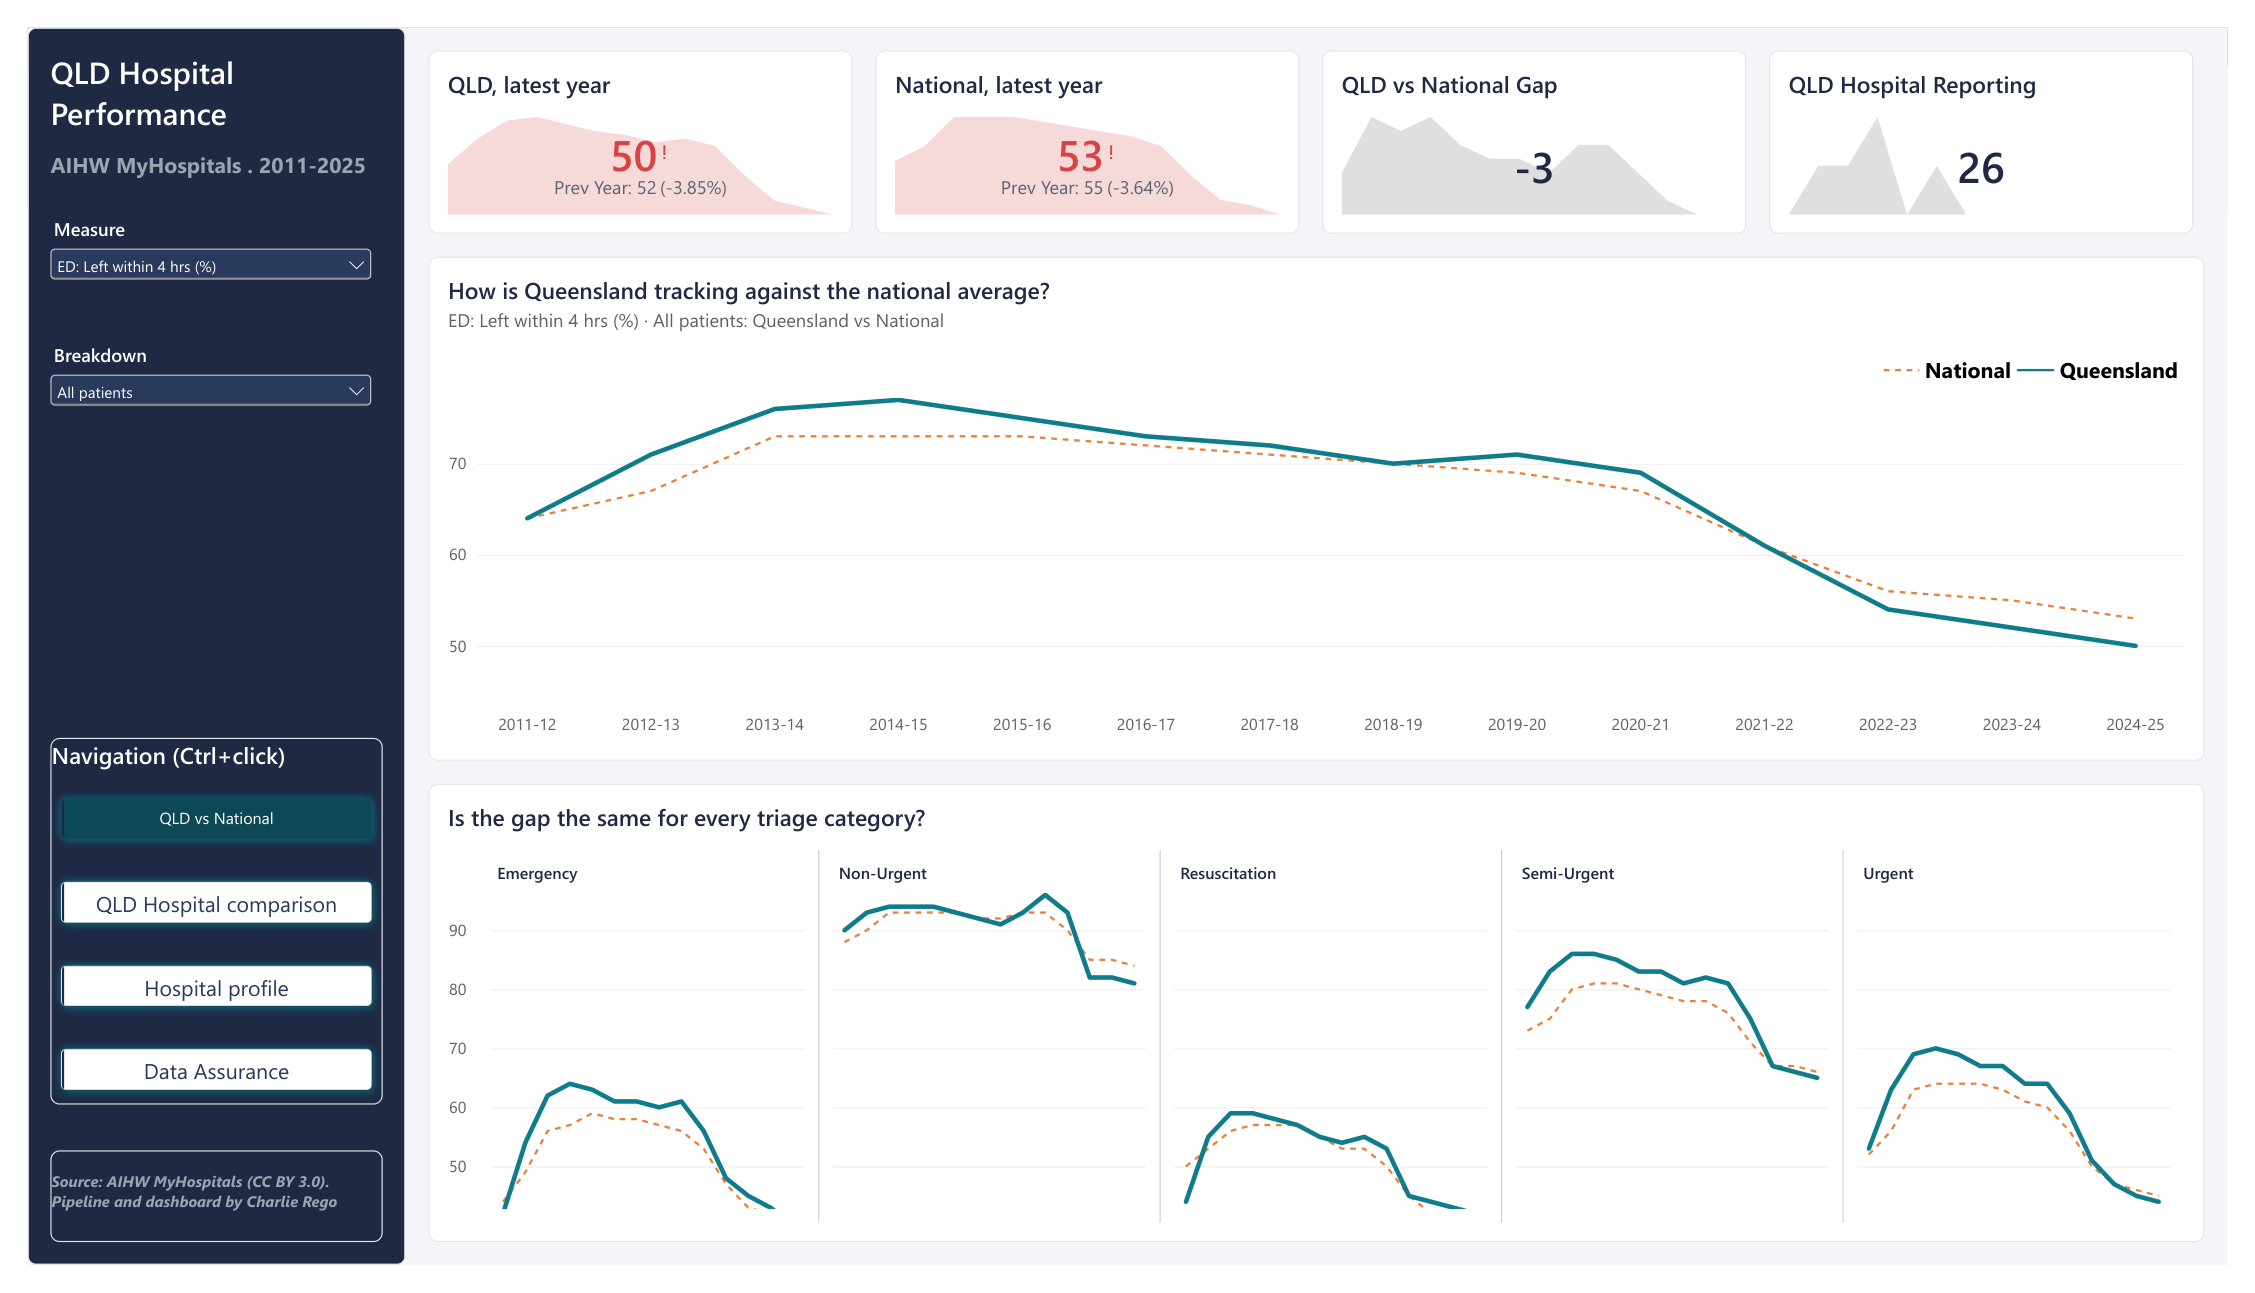

What the dashboard file says about the page in this screenshot:
{"tool":"powerbi","page":{"name":"QLD vs National","canvas":[1920,1080],"ordinal":0},"visuals":[{"type":"shape","box":[0,0,330,1080],"z":0},{"type":"slicer","fields":{"Values":["dim_measure.Measure Short Name"]},"box":[15,165,290,90],"z":1000},{"type":"slicer","fields":{"Values":["dim_measure.reported_measure_name"]},"box":[15,275,290,90],"z":2000},{"type":"textbox","title":"QLD Hospital Performance","box":[20,20,290,120],"z":3000},{"type":"lineChart","title":"How is Queensland tracking against the national average?","fields":{"Category":["fct_hospital_measure.period_label"],"Series":["dim_reporting_unit.reporting_unit_name"],"Y":["dim_measure.Reporting Unit Value"]},"box":[350,200,1550,440],"z":4000},{"type":"kpi","title":"QLD, latest year","fields":{"Goal":["dim_measure.Previous Period Value"],"Indicator":["dim_measure.Reporting Unit Value"],"TrendLine":["fct_hospital_measure.period_label"]},"box":[350,20,370,160],"z":5000},{"type":"kpi","title":"National, latest year","fields":{"Goal":["dim_measure.Previous Period Value"],"Indicator":["dim_measure.Reporting Unit Value"],"TrendLine":["fct_hospital_measure.period_label"]},"box":[740,20,370,160],"z":6000},{"type":"lineChart","title":"Is the gap the same for every triage category?","fields":{"Category":["fct_hospital_measure.period_end"],"Rows":["dim_measure.reported_measure_name"],"Series":["dim_reporting_unit.reporting_unit_name"],"Y":["dim_measure.Reporting Unit Value"]},"box":[350,660,1550,400],"z":7000},{"type":"kpi","title":"QLD vs National Gap","fields":{"Indicator":["fct_hospital_measure.Qld vs National Gap"],"TrendLine":["fct_hospital_measure.period_label"]},"box":[1130,20,370,160],"z":8000},{"type":"kpi","title":"QLD Hospital Reporting","fields":{"Indicator":["fct_hospital_measure.Qld Hospitals Reporting"],"TrendLine":["fct_hospital_measure.period_label"]},"box":[1520,20,370,160],"z":9000},{"type":"pageNavigator","title":"Navigation (Ctrl+click)","box":[20,620,290,320],"z":9001},{"type":"textbox","box":[20,980,290,80],"z":9002}]}

Visuals, with their boxes in screenshot pixels (x1, y1, x2, y2), scaled from the page's 1920x1080 canvas onto the 2255x1293 screenshot:
shape: left=0, top=0, right=388, bottom=1292
slicer - dim_measure.Measure Short Name: left=18, top=198, right=358, bottom=305
slicer - dim_measure.reported_measure_name: left=18, top=329, right=358, bottom=437
"QLD Hospital Performance" textbox: left=23, top=24, right=364, bottom=168
"How is Queensland tracking against the national average?" lineChart: left=411, top=239, right=2232, bottom=766
"QLD, latest year" kpi: left=411, top=24, right=846, bottom=216
"National, latest year" kpi: left=869, top=24, right=1304, bottom=216
"Is the gap the same for every triage category?" lineChart: left=411, top=790, right=2232, bottom=1269
"QLD vs National Gap" kpi: left=1327, top=24, right=1762, bottom=216
"QLD Hospital Reporting" kpi: left=1785, top=24, right=2220, bottom=216
"Navigation (Ctrl+click)" pageNavigator: left=23, top=742, right=364, bottom=1125
textbox: left=23, top=1173, right=364, bottom=1269
